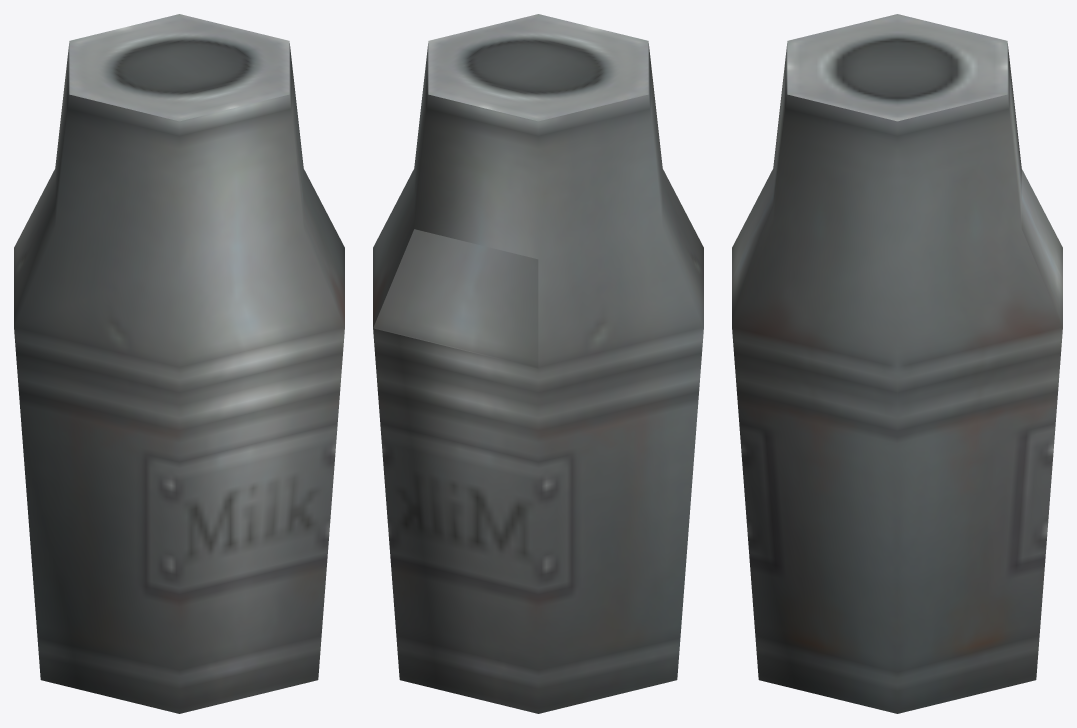
The model's file is scene_shenmisenlin_np01.FBX.
The picture shows the model from 3 angles, left to right: view 1: azimuth 30°, elevation 25°; view 2: azimuth 150°, elevation 25°; view 3: azimuth 270°, elevation 25°; orthographic projection.
Visible parts, largest first — view 1: scene_shenmisenlin_np01; view 2: scene_shenmisenlin_np01; view 3: scene_shenmisenlin_np01.
Part boxes in pixels (x1,y1,x2,y2): scene_shenmisenlin_np01: (14, 14, 344, 713); scene_shenmisenlin_np01: (373, 14, 703, 713); scene_shenmisenlin_np01: (732, 14, 1062, 713).
Size of the model in its own units: 40.13 by 67.05 by 34.75.
